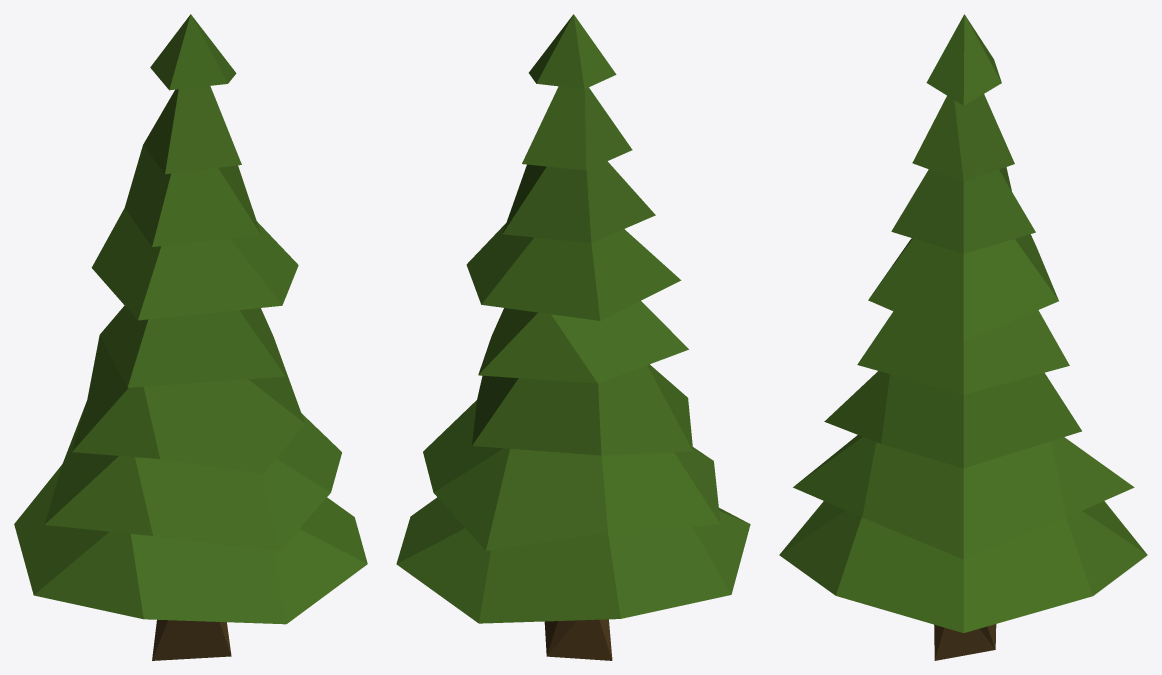
Rendered from pinetreemorelowpoly.fbx.
3 views of the same model, side by side, from view 1: azimuth 30°, elevation 25°; view 2: azimuth 150°, elevation 25°; view 3: azimuth 270°, elevation 25° (orthographic).
Parts seen in each view (by area): view 1: leafs; view 2: leafs; view 3: leafs.
Part boxes in pixels (left/top/right/bottom): leafs: left=14, top=14, right=367, bottom=660; leafs: left=396, top=14, right=750, bottom=660; leafs: left=779, top=14, right=1147, bottom=660.
Bounding box in the file's own units: 5.11 × 9.71 × 5.11.
